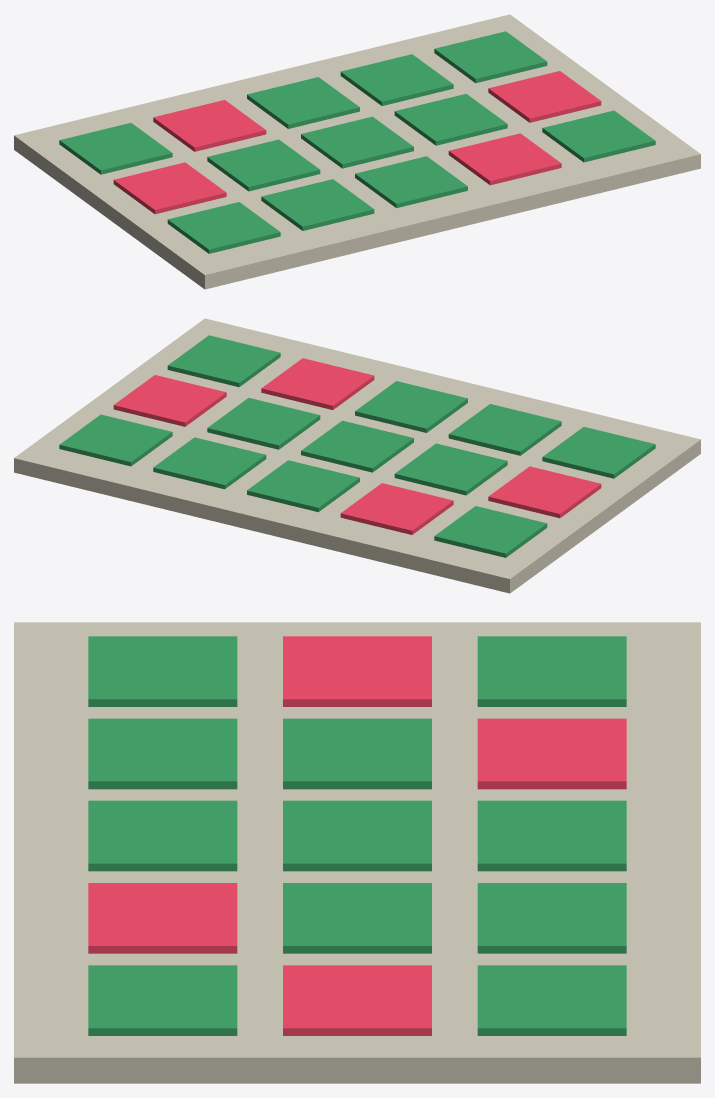
The model's file is bingo_card.glb.
3 renders of one model, top to bottom at view 1: azimuth 30°, elevation 25°; view 2: azimuth 150°, elevation 25°; view 3: azimuth 270°, elevation 25°, orthographic. The views are drawn at different scales.
Parts seen in each view (by area): view 1: card_card, card_card_green, card_card_mark; view 2: card_card, card_card_green, card_card_mark; view 3: card_card, card_card_green, card_card_mark.
Boxes of the visible parts, x1,y1,x2,y2 form: card_card: (14, 14, 700, 289); card_card_green: (59, 31, 655, 253); card_card_mark: (113, 71, 601, 214); card_card: (14, 318, 700, 593); card_card_green: (59, 335, 655, 557); card_card_mark: (113, 358, 601, 534); card_card: (14, 622, 700, 1083); card_card_green: (88, 636, 626, 1035); card_card_mark: (88, 636, 626, 1035).
Size of the model in its own units: 0.18 by 0.0065 by 0.12.
